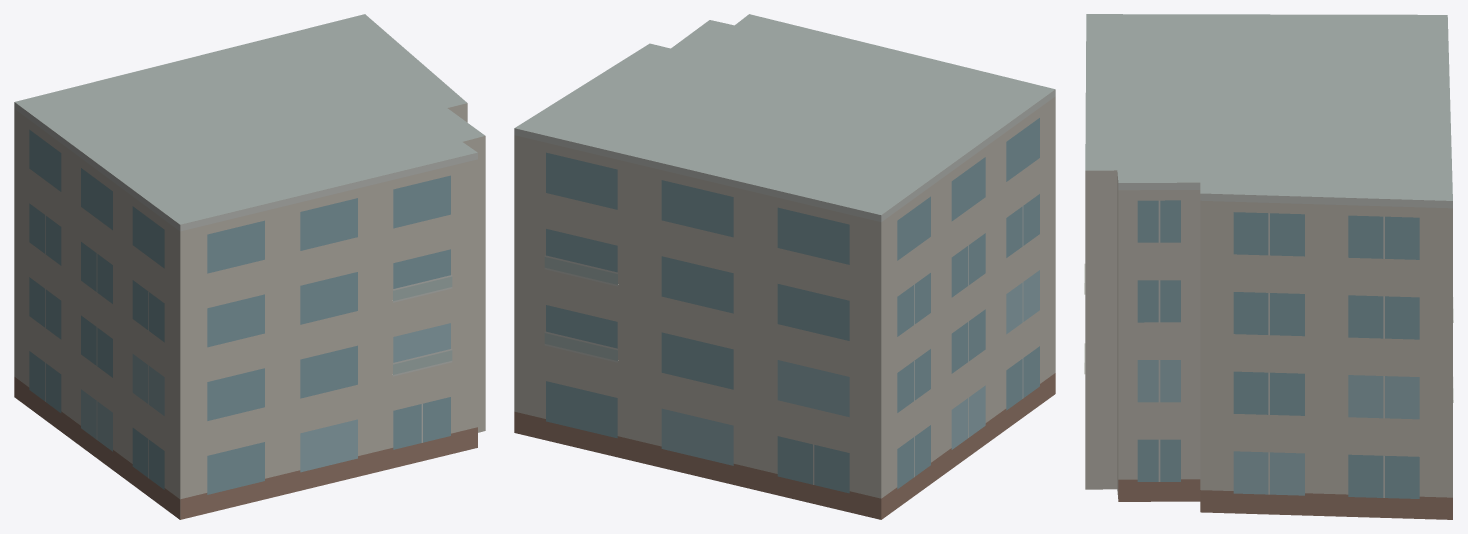
The model's file is survey-upis-32971478.glb.
3 views of the same model, side by side, from view 1: azimuth 30°, elevation 25°; view 2: azimuth 150°, elevation 25°; view 3: azimuth 270°, elevation 25° (orthographic). The views are drawn at different scales.
Parts seen in each view (by area): view 1: survey-upis-32971478.tmp; view 2: survey-upis-32971478.tmp; view 3: survey-upis-32971478.tmp.
Boxes of the visible parts, x1=… form: survey-upis-32971478.tmp: x1=14, y1=14, x2=485, y2=519; survey-upis-32971478.tmp: x1=514, y1=14, x2=1055, y2=519; survey-upis-32971478.tmp: x1=1084, y1=14, x2=1453, y2=519.
Size of the model in its own units: 13.38 by 10.63 by 11.17.
